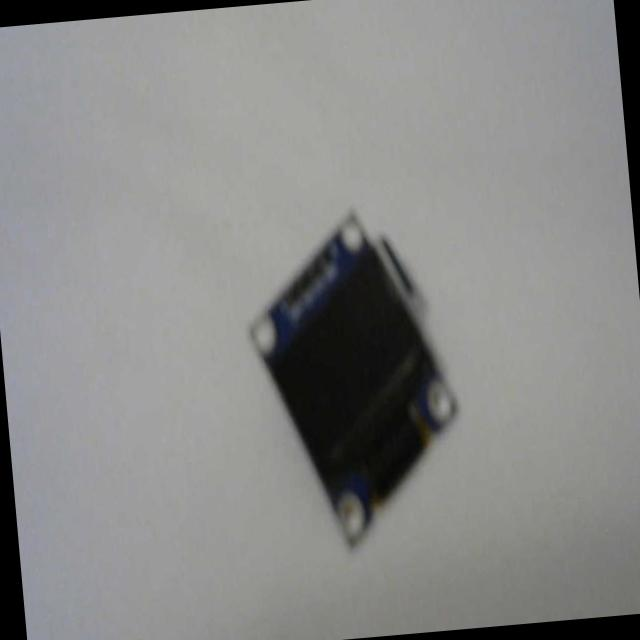oled: (235, 195, 475, 552)
